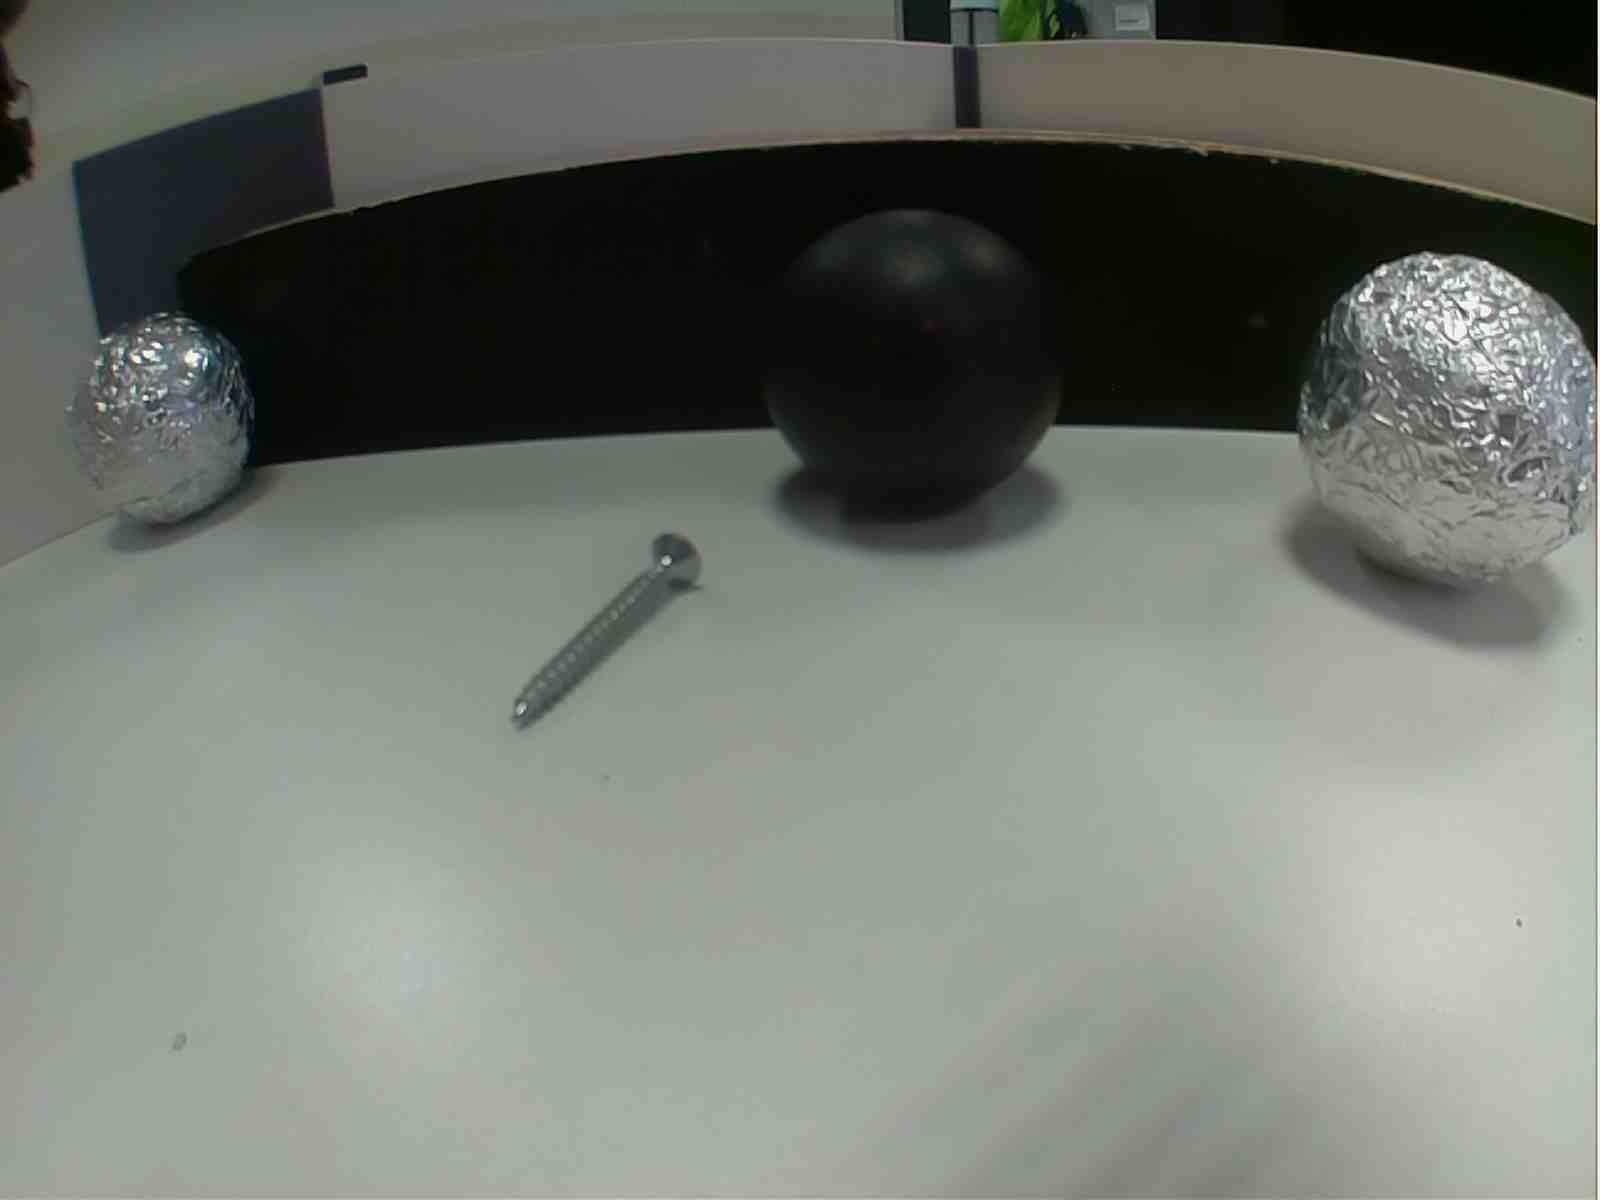bianca: (1280, 248, 1600, 596), (64, 301, 261, 526)
nera: (774, 200, 1058, 524)
